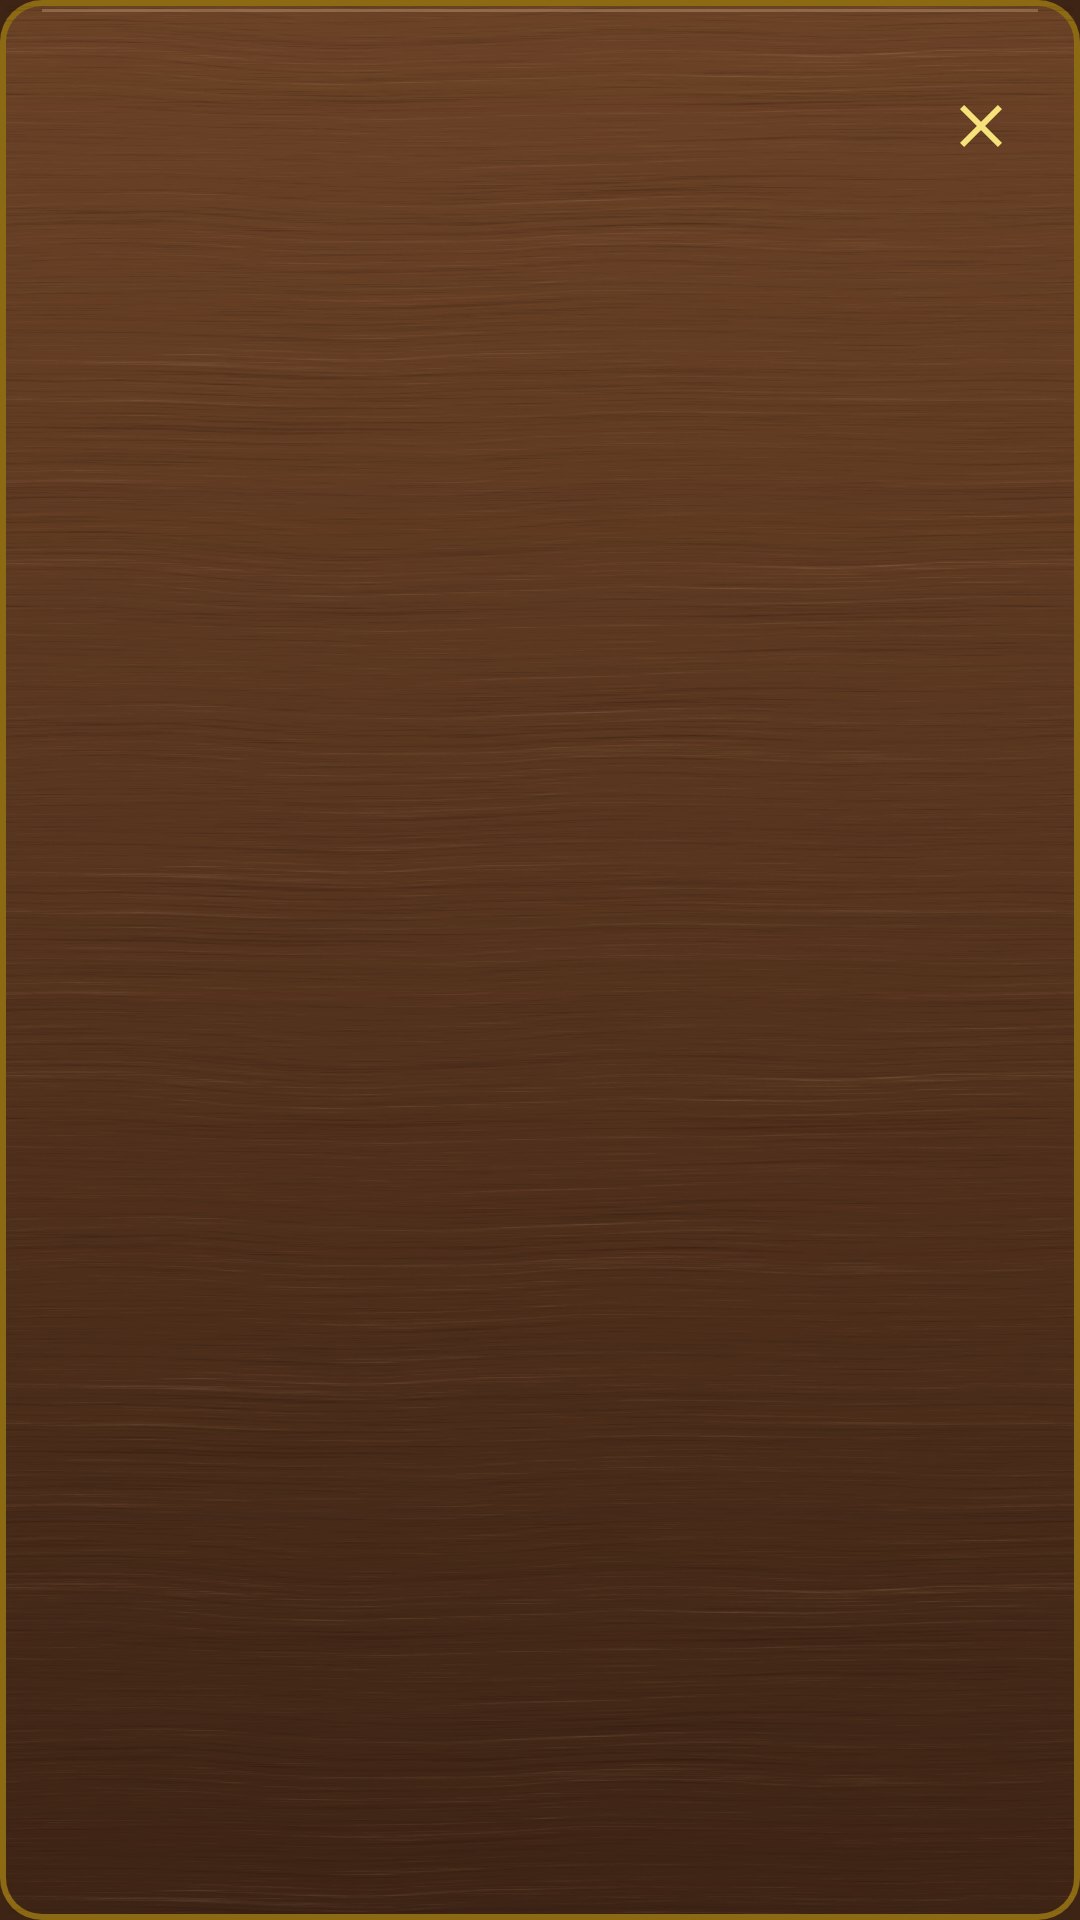

Screen size 1080 x 1920. Icon name, then its center in pixels as [x,y]:
Close: [981,126]
